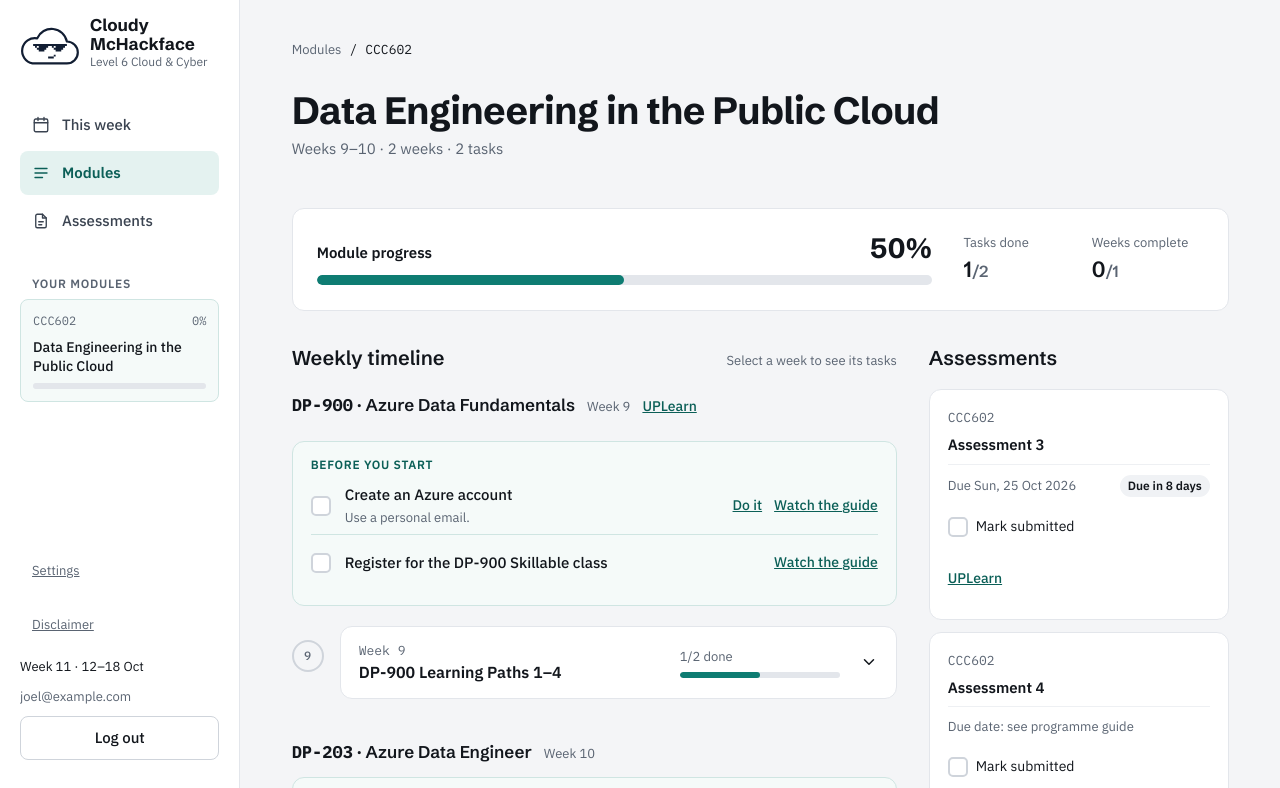
Scenario: ModulePage › shows task rows with tick boxes, type tags and named links
Expected: the heading "Data Engineering in the Public Cloud" is shown, [292,87,939,134]
Step 1. Click the button "Week 9 DP-900 Learning Paths 1–4 1/2 done" → point(378, 650), box [341,627,896,698]
(page scrolled)
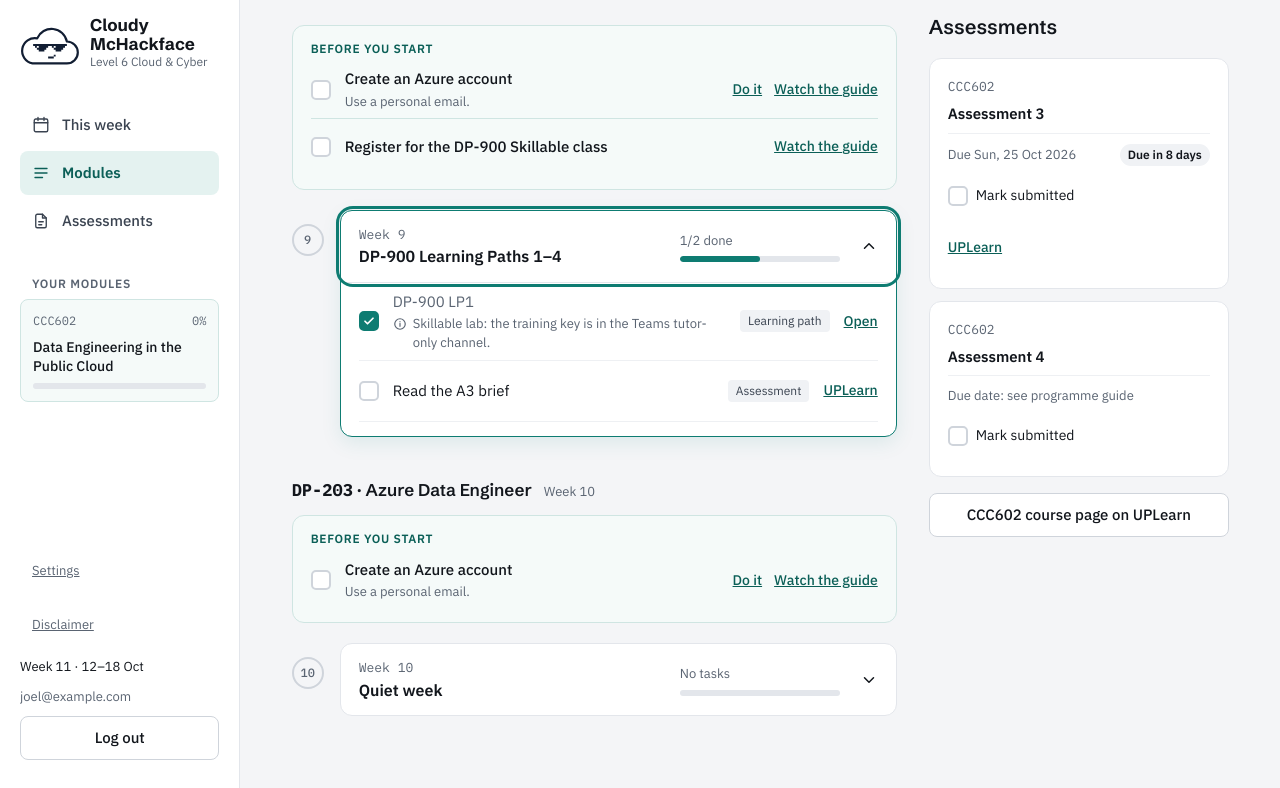
Now the checkbox labelled "DP-900 LP1" is enabled, box [359,311,379,331]
Now the checkbox labelled "DP-900 LP1" is checked, box [359,311,379,331]
Now the text "Learning path" is shown, box [740,310,830,332]
